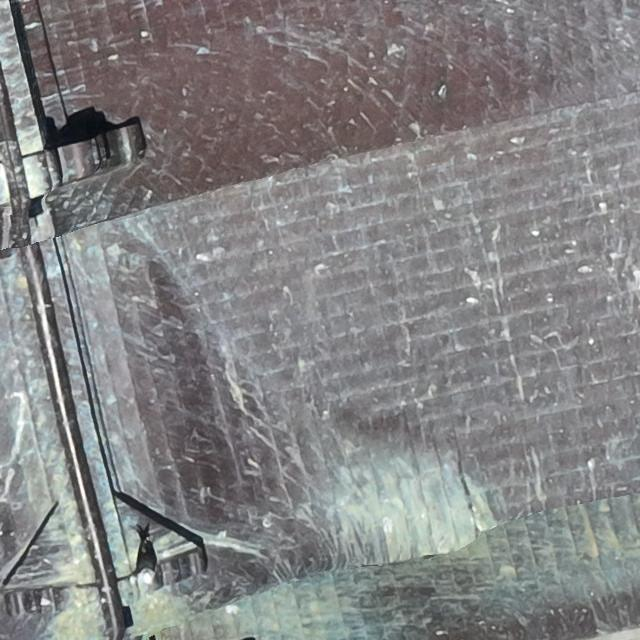umineko: (135, 536, 155, 586)
